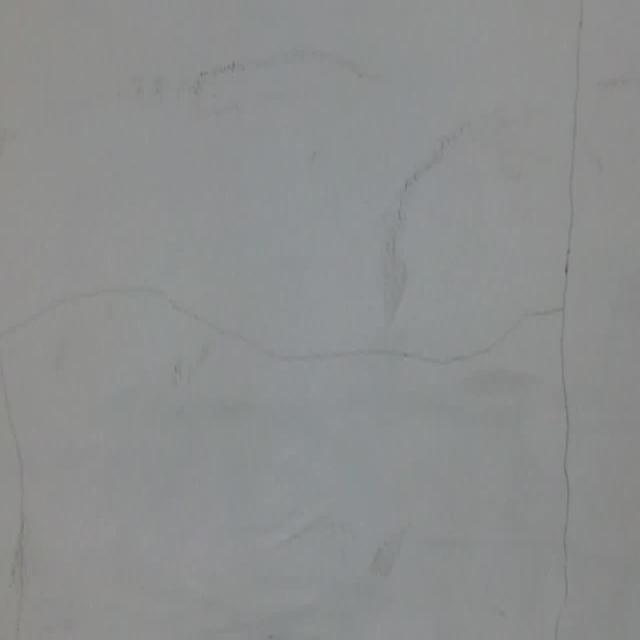Crack: (1, 278, 538, 380), (544, 0, 595, 637), (3, 398, 40, 640)
